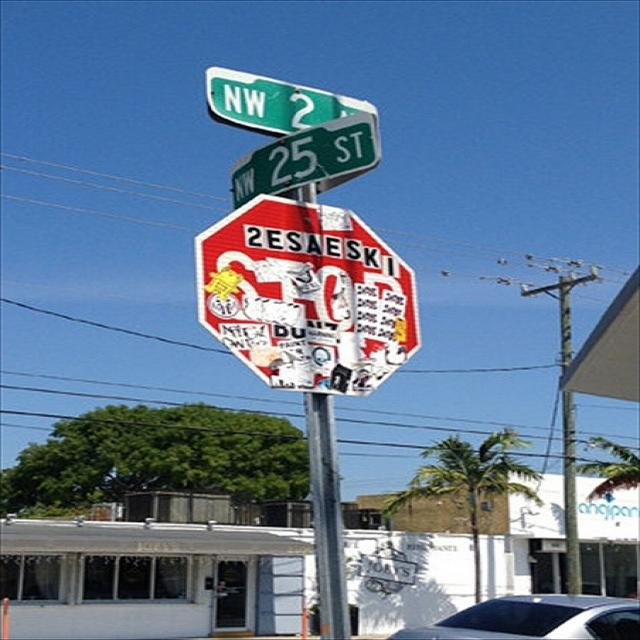car: (404, 592, 638, 631)
pole: (288, 184, 360, 639), (552, 271, 586, 594)
